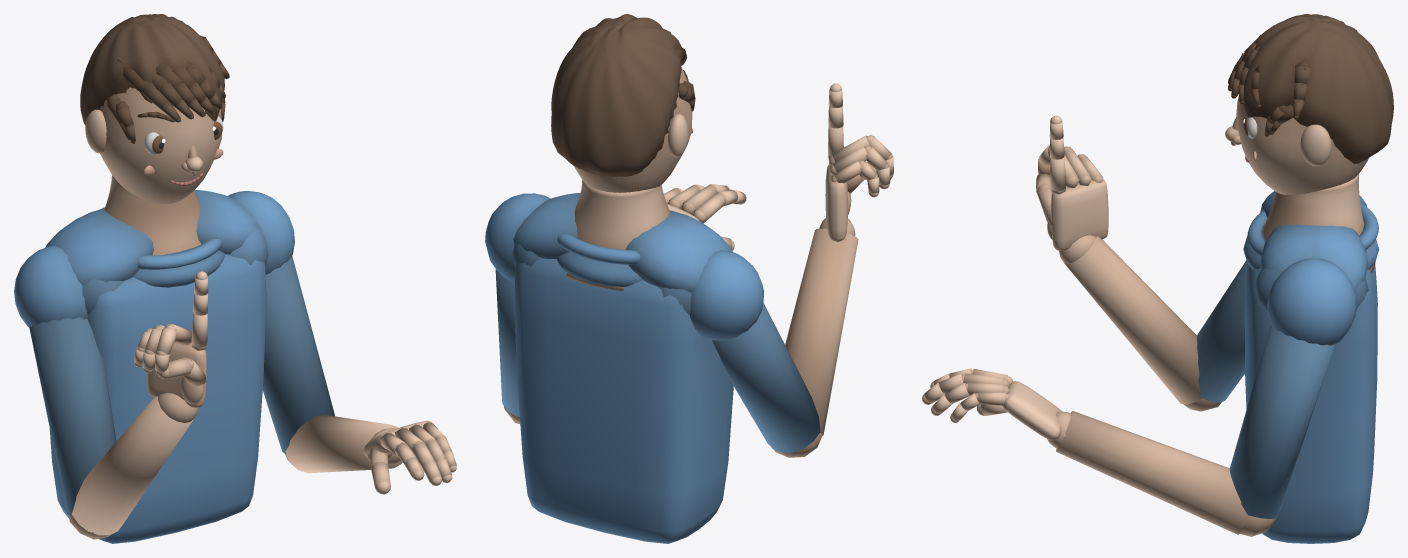
The picture shows the model from 3 angles, left to right: view 1: azimuth 30°, elevation 25°; view 2: azimuth 150°, elevation 25°; view 3: azimuth 270°, elevation 25°; orthographic projection.
Visible parts, largest first — view 1: LSC_Body; view 2: LSC_Body; view 3: LSC_Body.
Boxes of the visible parts, x1,y1,x2,y2 form: LSC_Body: (14, 14, 456, 543); LSC_Body: (485, 14, 893, 543); LSC_Body: (922, 14, 1393, 543).
Bounding box in the file's own units: 0.4304 × 0.713 × 0.6104.
